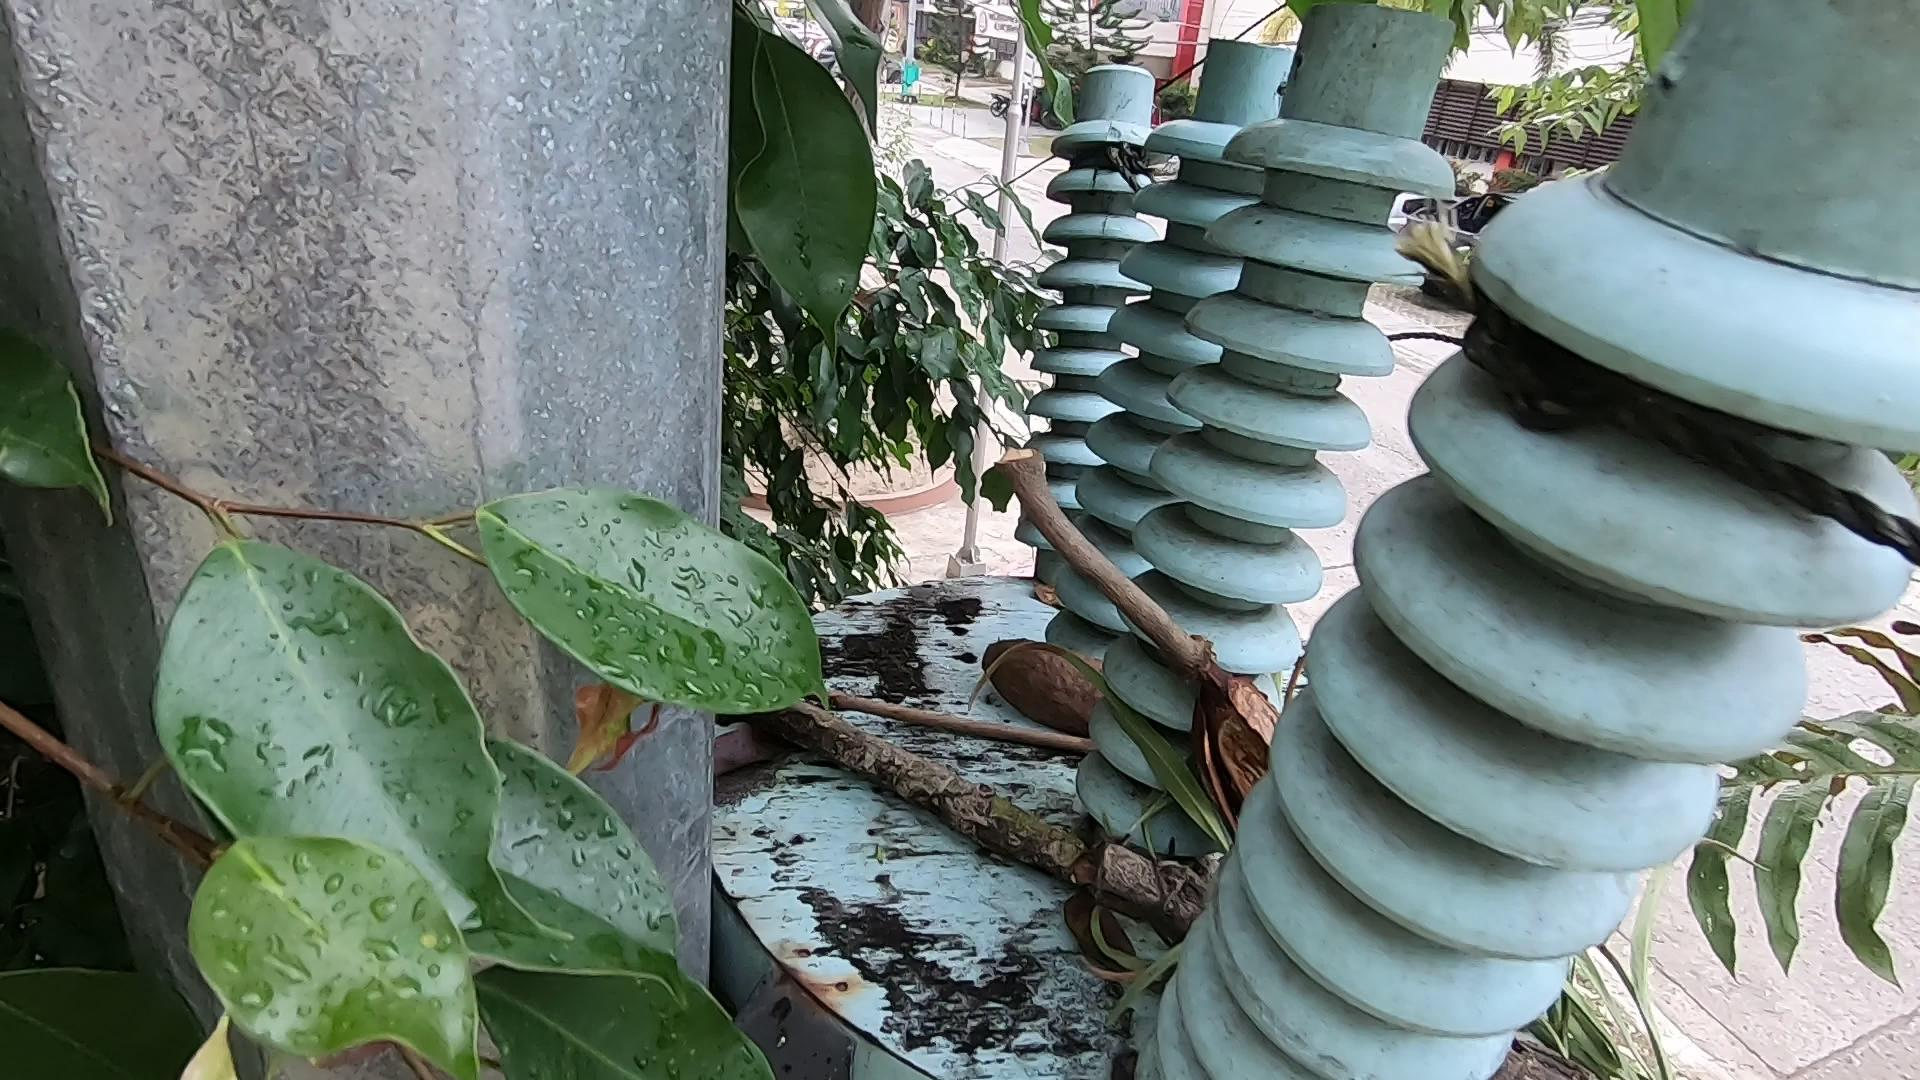branch with leaves: (769, 709, 1230, 934)
leaf: (1105, 686, 1232, 843), (1058, 886, 1133, 978)
mahogany fruit: (1199, 659, 1329, 898), (976, 607, 1095, 744)
tree branch: (1007, 444, 1215, 679), (818, 698, 1100, 756)
